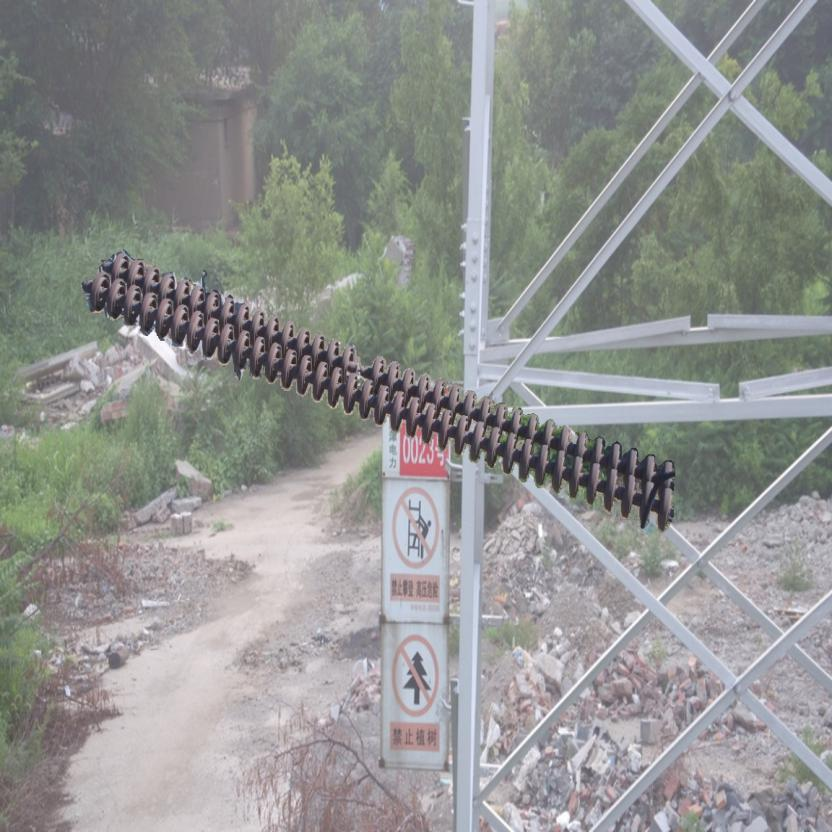defect: (337, 341, 389, 385)
